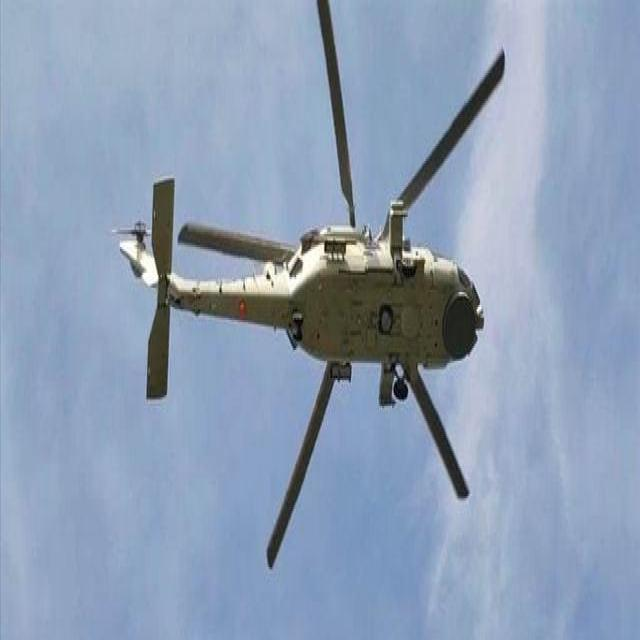MIL_HELO: (110, 0, 506, 571)
